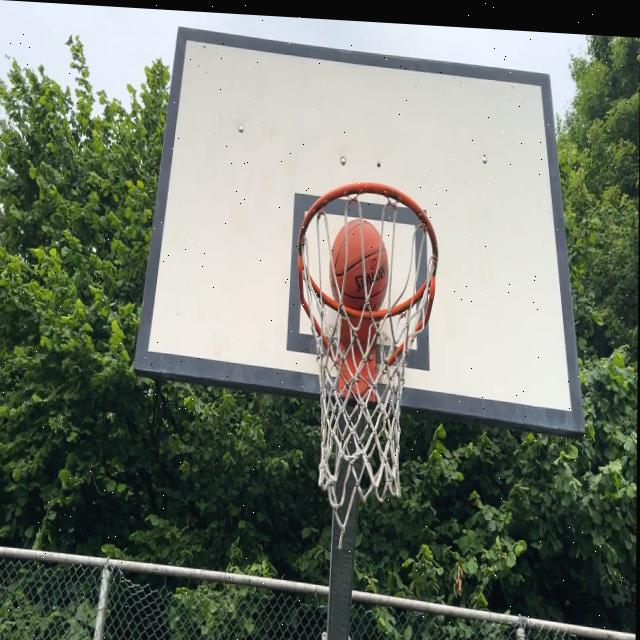rebound_hit: (330, 217, 391, 328)
